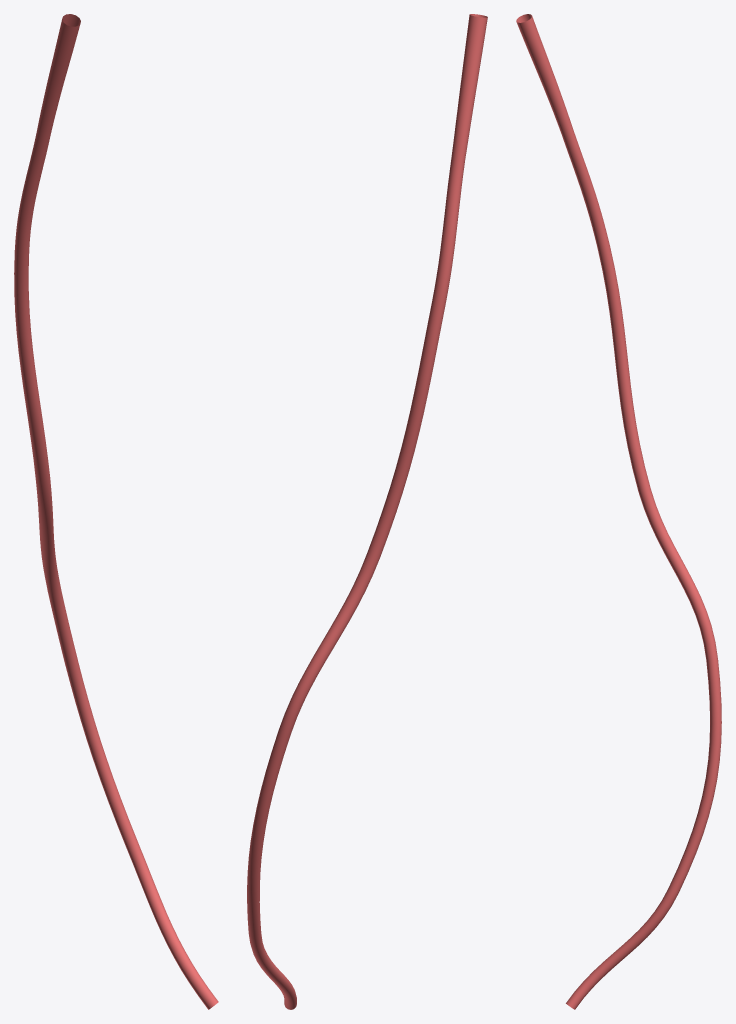
Rendered from Superior_ulnar_collateral_artery.l_BezierCurve.161.glb.
3 renders of one model, left to right at view 1: azimuth 30°, elevation 25°; view 2: azimuth 150°, elevation 25°; view 3: azimuth 270°, elevation 25°, orthographic. The views are drawn at different scales.
Parts seen in each view (by area): view 1: Superior_ulnar_collateral_artery.l_BezierCurve.161; view 2: Superior_ulnar_collateral_artery.l_BezierCurve.161; view 3: Superior_ulnar_collateral_artery.l_BezierCurve.161.
Part boxes in pixels (bbox=[...]): Superior_ulnar_collateral_artery.l_BezierCurve.161: bbox=[14, 14, 218, 1009]; Superior_ulnar_collateral_artery.l_BezierCurve.161: bbox=[247, 14, 487, 1009]; Superior_ulnar_collateral_artery.l_BezierCurve.161: bbox=[516, 14, 721, 1009].
Bounding box in the file's own units: 0.0222 × 0.1199 × 0.0242.
